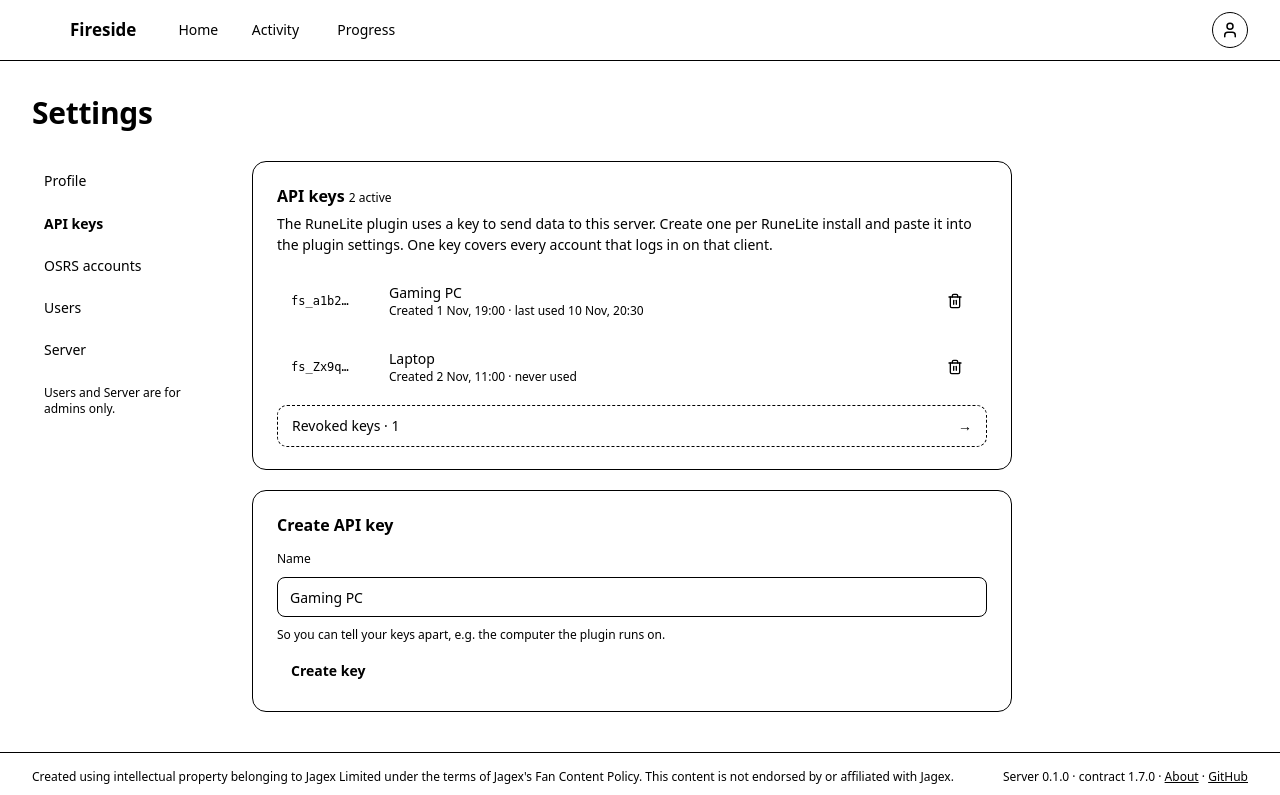
API keys › shows the name rule under the field and clears it on typing
This screenshot has width=1280, height=795.
Click the button "Create key": (328, 672) [277,654,379,690]
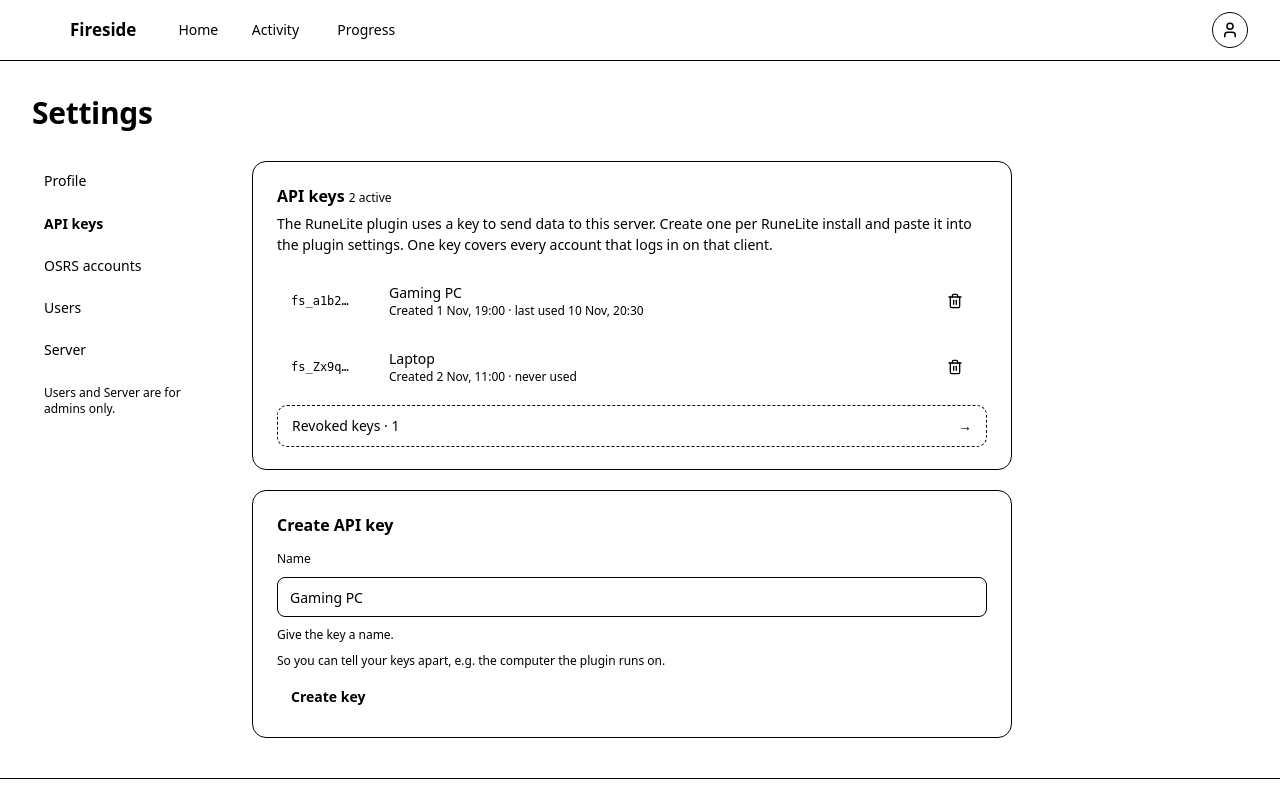
Expected: the text "Give the key a name." is shown, [277,626,394,644]
In the field labelled "Name": (632, 598) [277,578,987,618], type "x"
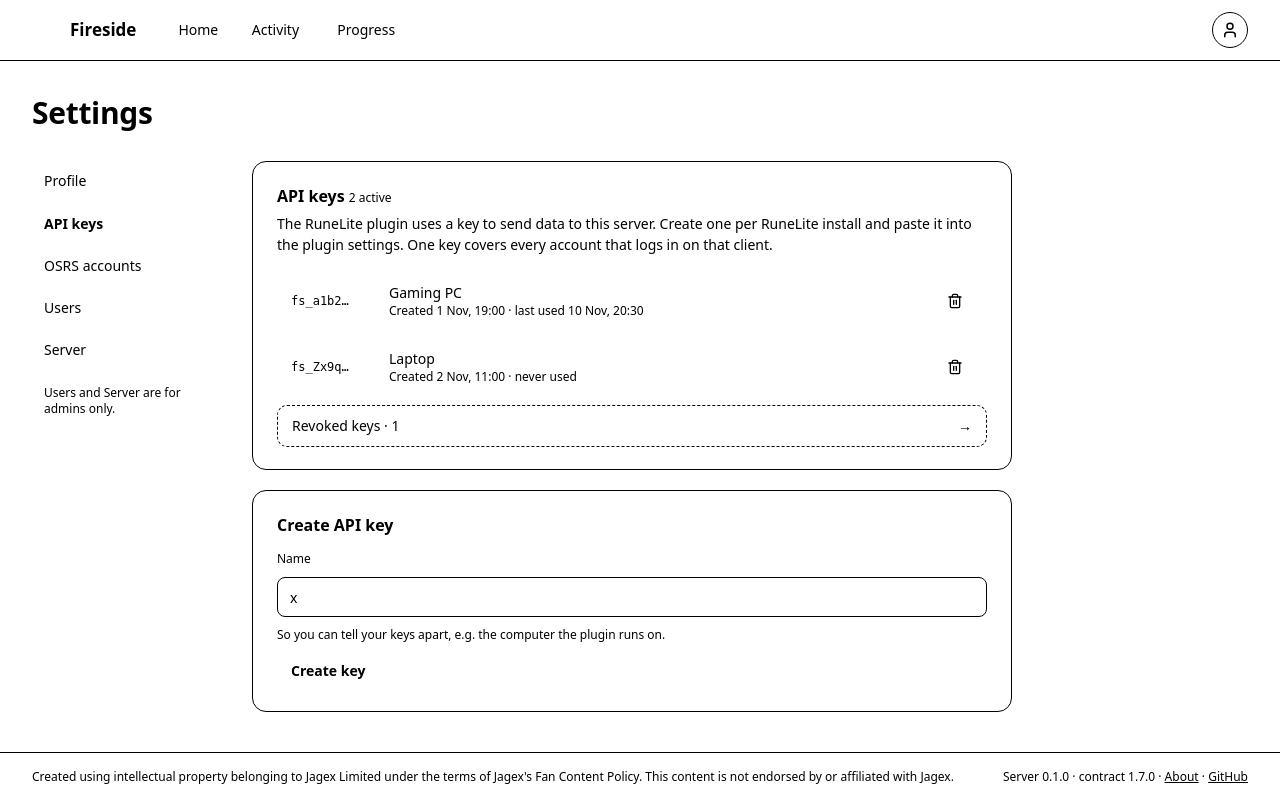
Expected: the text "Give the key a name." is gone
